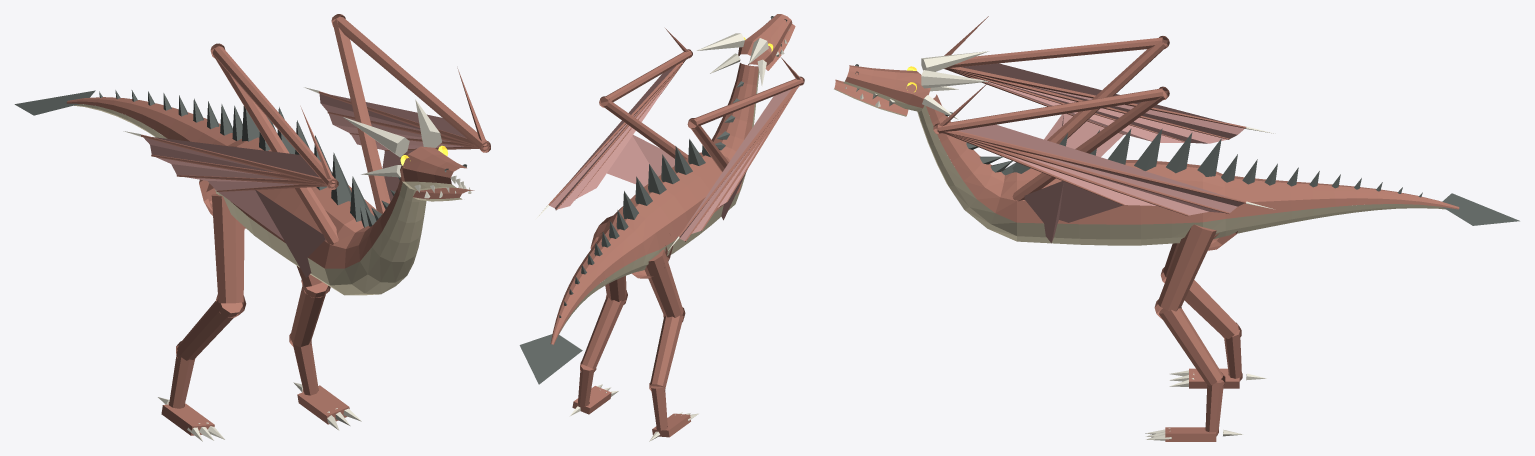
File: dragons-and-wyverns-wyvern-standing-alert-93c9fffa.glb
3 views of the same model, side by side, from view 1: azimuth 30°, elevation 25°; view 2: azimuth 150°, elevation 25°; view 3: azimuth 270°, elevation 25° (orthographic). The views are drawn at different scales.
Parts seen in each view (by area): view 1: wyvern-standing-alert; view 2: wyvern-standing-alert; view 3: wyvern-standing-alert.
Part boxes in pixels (left/top/right/bottom): wyvern-standing-alert: left=14, top=14, right=490, bottom=441; wyvern-standing-alert: left=519, top=14, right=804, bottom=441; wyvern-standing-alert: left=834, top=16, right=1519, bottom=441.
Size of the model in its own units: 1.62 by 3.65 by 6.18.
